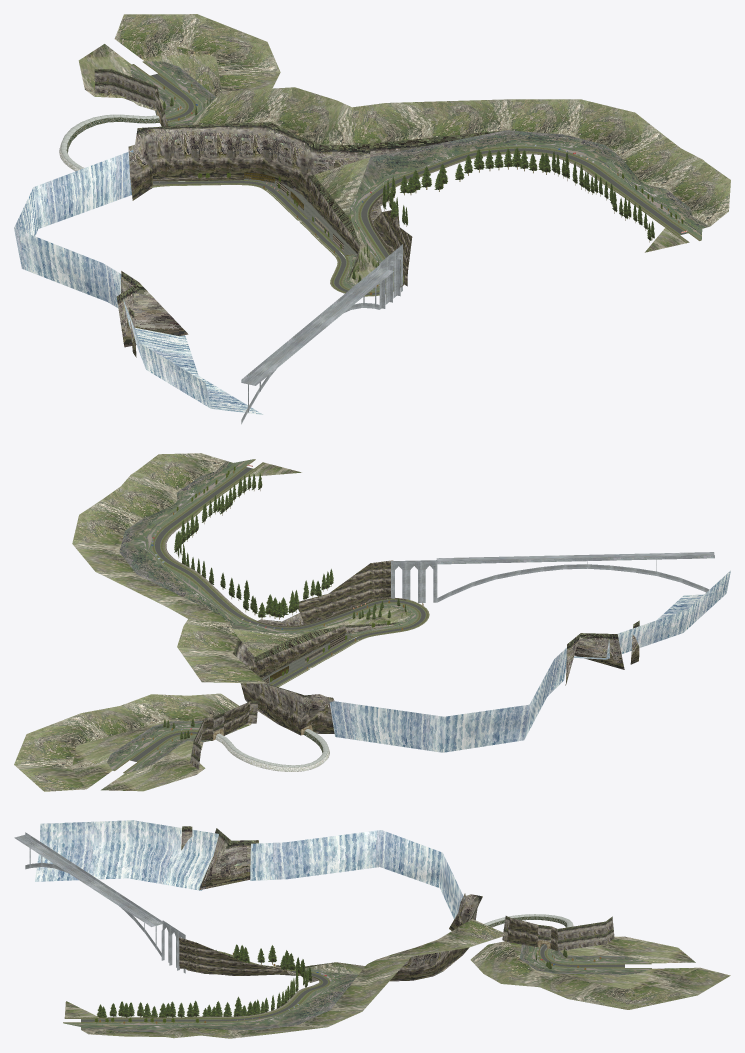
The model's file is stage-niag-env.glb.
3 views of the same model, one above another, from view 1: azimuth 30°, elevation 25°; view 2: azimuth 150°, elevation 25°; view 3: azimuth 270°, elevation 25° (orthographic). The views are drawn at different scales.
Visible parts, largest first — view 1: env part 0 chunk -4,-5, env part 1 chunk -6,-5, env part 0 chunk 0,-2, env part 0 chunk -2,-5, env part 0 chunk -3,-6, env part 0 chunk -2,-9, env part 0 chunk 0,-4, env part 0 chunk -1,-4, env part 1 chunk -5,-1, env part 1 chunk -7,-1, env part 0 chunk -4,-8, env part 0 chunk -3,-4 (+14 smaller); view 2: env part 1 chunk -6,-5, env part 0 chunk 0,-2, env part 0 chunk -4,-5, env part 1 chunk -5,-1, env part 0 chunk -2,-9, env part 0 chunk -3,-7, env part 0 chunk -3,-6, env part 0 chunk -3,-3, env part 0 chunk -1,-4, env part 0 chunk 0,-4, env part 1 chunk -7,-1, env part 0 chunk -4,-8 (+14 smaller); view 3: env part 1 chunk -7,-1, env part 1 chunk -6,-5, env part 0 chunk -4,-8, env part 0 chunk -2,-9, env part 1 chunk -5,-1, env part 0 chunk -3,-7, env part 0 chunk 0,-2, env part 1 chunk -7,-3, env part 0 chunk -1,-4, env part 0 chunk -3,-3, env part 0 chunk -4,-5, env part 0 chunk -4,-9 (+15 smaller).
Part boxes in pixels (x1=…): env part 0 chunk -4,-5: x1=128, y1=122, x2=370, y2=258; env part 1 chunk -6,-5: x1=14, y1=150, x2=133, y2=307; env part 0 chunk 0,-2: x1=596, y1=137, x2=730, y2=232; env part 0 chunk -2,-5: x1=350, y1=99, x2=513, y2=144; env part 0 chunk -3,-6: x1=192, y1=87, x2=351, y2=144; env part 0 chunk -2,-9: x1=114, y1=14, x2=280, y2=73; env part 0 chunk 0,-4: x1=506, y1=99, x2=665, y2=157; env part 0 chunk -1,-4: x1=370, y1=130, x2=620, y2=180; env part 1 chunk -5,-1: x1=241, y1=244, x2=402, y2=424; env part 1 chunk -7,-1: x1=123, y1=299, x2=263, y2=414; env part 0 chunk -4,-8: x1=94, y1=67, x2=215, y2=126; env part 0 chunk -3,-4: x1=314, y1=157, x2=395, y2=254; env part 1 chunk -6,-5: x1=329, y1=648, x2=566, y2=752; env part 0 chunk 0,-2: x1=102, y1=453, x2=245, y2=527; env part 0 chunk -4,-5: x1=232, y1=624, x2=364, y2=735; env part 1 chunk -5,-1: x1=391, y1=552, x2=714, y2=602; env part 0 chunk -2,-9: x1=14, y1=713, x2=105, y2=791; env part 0 chunk -3,-7: x1=81, y1=693, x2=251, y2=737; env part 0 chunk -3,-6: x1=177, y1=619, x2=266, y2=683; env part 0 chunk -3,-3: x1=257, y1=560, x2=406, y2=630; env part 0 chunk -1,-4: x1=119, y1=520, x2=241, y2=625; env part 0 chunk 0,-4: x1=72, y1=500, x2=140, y2=574; env part 1 chunk -7,-1: x1=574, y1=570, x2=730, y2=659; env part 0 chunk -4,-8: x1=111, y1=701, x2=258, y2=769; env part 1 chunk -7,-1: x1=35, y1=820, x2=218, y2=890; env part 1 chunk -6,-5: x1=250, y1=830, x2=464, y2=919; env part 0 chunk -4,-8: x1=502, y1=916, x2=624, y2=974; env part 0 chunk -2,-9: x1=568, y1=967, x2=730, y2=1009; env part 1 chunk -5,-1: x1=14, y1=832, x2=185, y2=973; env part 0 chunk -3,-7: x1=470, y1=941, x2=595, y2=998; env part 0 chunk 0,-2: x1=81, y1=1021, x2=231, y2=1038; env part 1 chunk -7,-3: x1=181, y1=826, x2=258, y2=889; env part 0 chunk -1,-4: x1=232, y1=978, x2=355, y2=1029; env part 0 chunk -3,-3: x1=179, y1=937, x2=320, y2=980; env part 0 chunk -4,-5: x1=281, y1=893, x2=482, y2=981; env part 0 chunk -4,-9: x1=560, y1=936, x2=695, y2=963.
Size of the model in its own units: 2499 by 284 by 3197.
25 materials, 25 textured.
